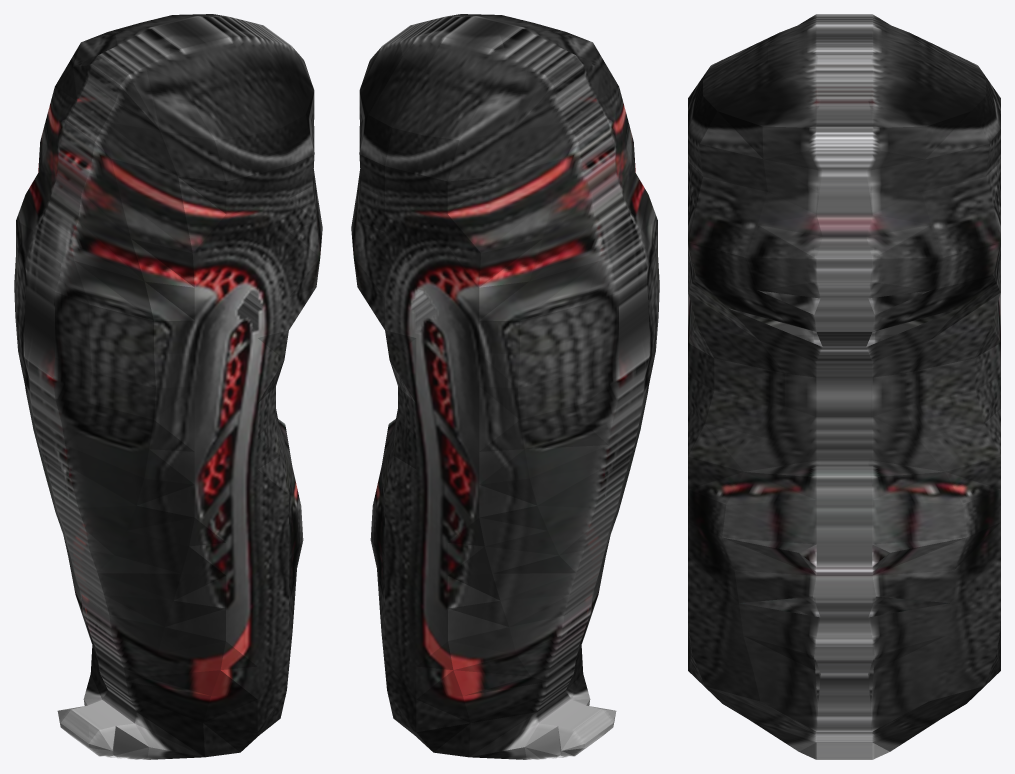
The model's file is quad-lock-vector-elbow-protector-164.glb.
The picture shows the model from 3 angles, left to right: view 1: azimuth 30°, elevation 25°; view 2: azimuth 150°, elevation 25°; view 3: azimuth 270°, elevation 25°; orthographic projection.
Visible parts, largest first — view 1: world; view 2: world; view 3: world.
Boxes of the visible parts, left/top/right/bottom form: world: left=14, top=14, right=322, bottom=759; world: left=351, top=14, right=659, bottom=759; world: left=688, top=14, right=1000, bottom=759.
Bounding box in the file's own units: 0.3827 × 1 × 0.4.
Materials: 1 (1 with a texture image).
